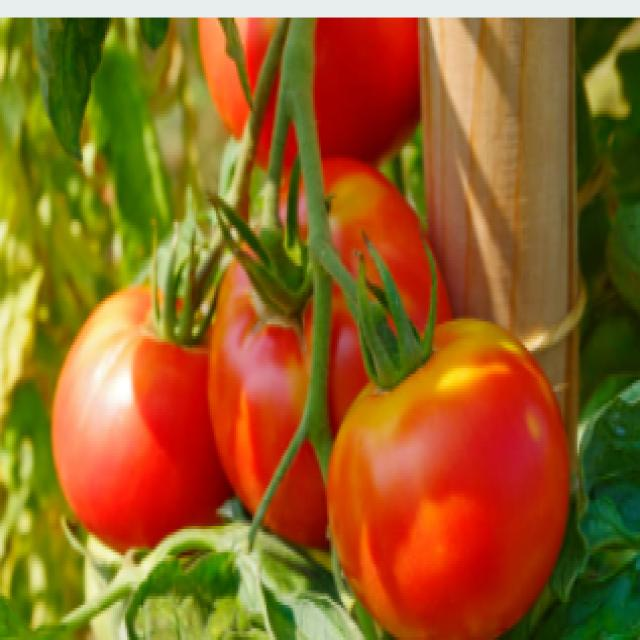Tomato: (328, 262, 561, 631)
